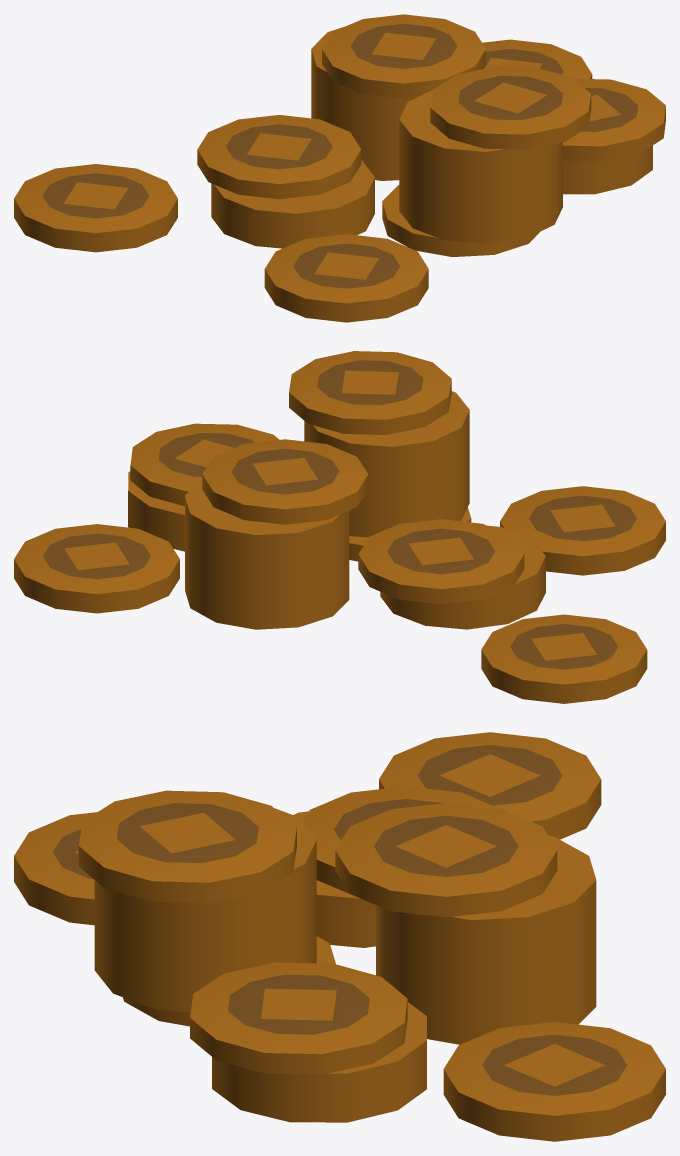
The model's file is Coin_Pile_2.gltf.
3 renders of one model, top to bottom at view 1: azimuth 30°, elevation 25°; view 2: azimuth 150°, elevation 25°; view 3: azimuth 270°, elevation 25°, orthographic. The views are drawn at different scales.
Visible parts, largest first — view 1: Coin_Pile_2; view 2: Coin_Pile_2; view 3: Coin_Pile_2.
Part boxes in pixels (x1,y1,x2,y2): Coin_Pile_2: (14,14,665,322); Coin_Pile_2: (14,351,665,703); Coin_Pile_2: (14,732,665,1141).
Size of the model in its own units: 0.2787 by 0.0584 by 0.2002.
